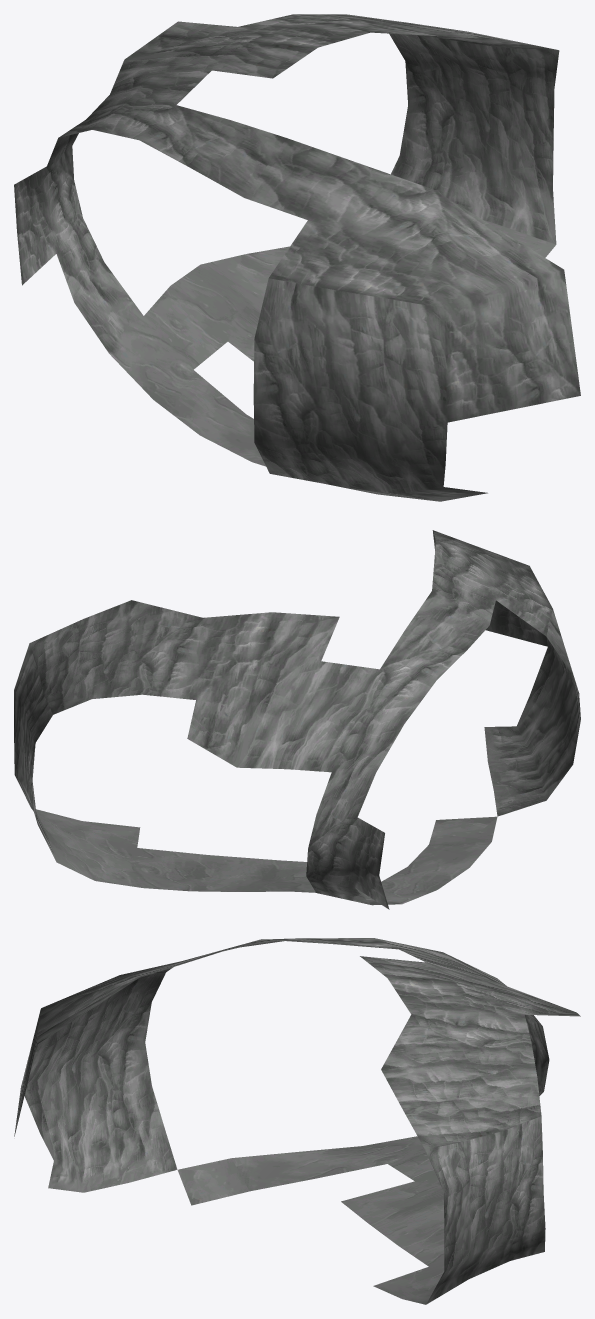
Rendered from SWORDLIGHT20_PS-AREA02-03TRANS_07.fbx.
3 views of the same model, one above another, from view 1: azimuth 30°, elevation 25°; view 2: azimuth 150°, elevation 25°; view 3: azimuth 270°, elevation 25° (orthographic). The views are drawn at different scales.
Parts seen in each view (by area): view 1: SWORDLIGHT20_PS-AREA02-03TRANS_07; view 2: SWORDLIGHT20_PS-AREA02-03TRANS_07; view 3: SWORDLIGHT20_PS-AREA02-03TRANS_07.
Boxes of the visible parts, left/top/right/bottom form: SWORDLIGHT20_PS-AREA02-03TRANS_07: left=14, top=14, right=580, bottom=501; SWORDLIGHT20_PS-AREA02-03TRANS_07: left=14, top=530, right=580, bottom=909; SWORDLIGHT20_PS-AREA02-03TRANS_07: left=14, top=938, right=580, bottom=1304.
Bounding box in the file's own units: 123711 × 76710 × 154212.
Materials: 3 (3 with a texture image).
